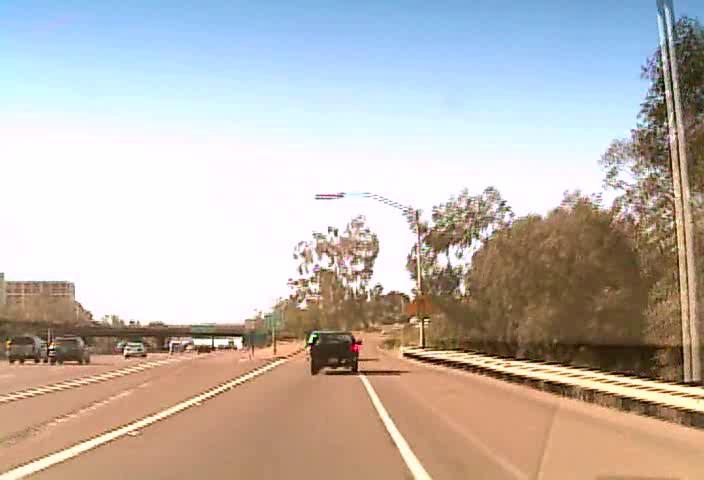signalAhead: (404, 293, 436, 322)
